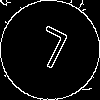L: (25, 25, 71, 78)
